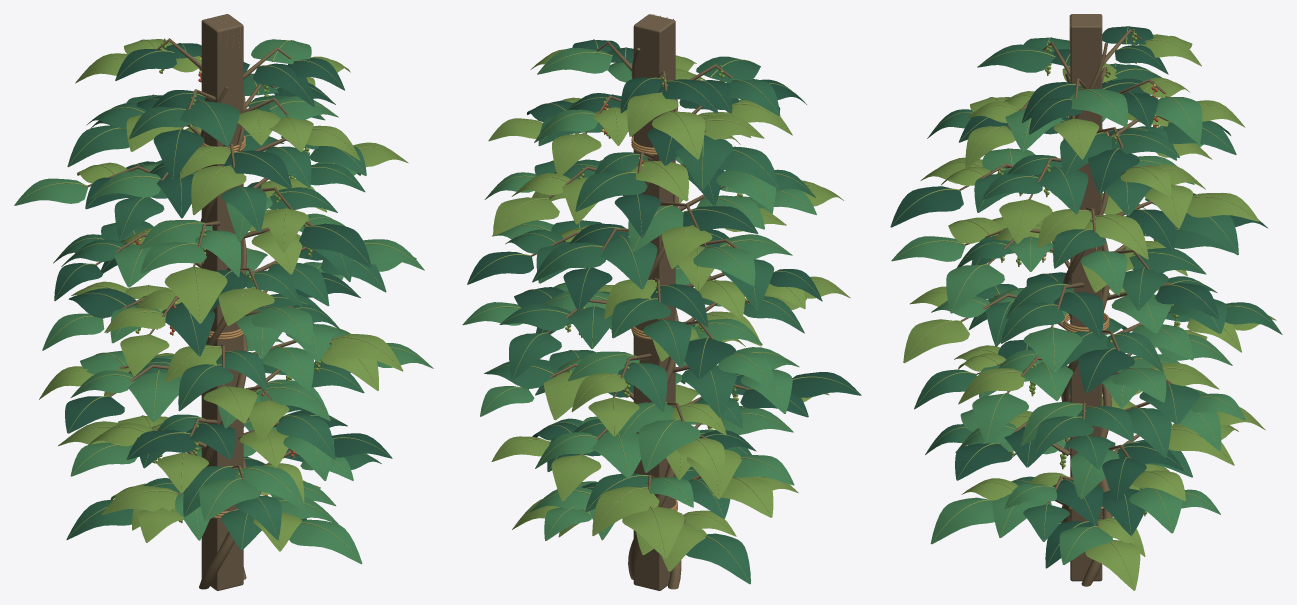
The picture shows the model from 3 angles, left to right: view 1: azimuth 30°, elevation 25°; view 2: azimuth 150°, elevation 25°; view 3: azimuth 270°, elevation 25°; orthographic projection.
Parts seen in each view (by area): view 1: Pepper foliage, Belian support, Climbers, Pepper spikes; view 2: Pepper foliage, Belian support, Climbers, Pepper spikes; view 3: Pepper foliage, Belian support, Climbers, Pepper spikes.
Part boxes in pixels (bbox=[...]): Pepper foliage: bbox=[14, 39, 433, 564]; Belian support: bbox=[200, 14, 245, 590]; Climbers: bbox=[87, 38, 332, 589]; Pepper spikes: bbox=[135, 38, 321, 523]; Pepper foliage: bbox=[462, 39, 861, 584]; Belian support: bbox=[631, 14, 677, 590]; Climbers: bbox=[528, 41, 749, 589]; Pepper spikes: bbox=[565, 65, 749, 483]; Pepper foliage: bbox=[890, 26, 1282, 590]; Belian support: bbox=[1063, 14, 1109, 581]; Climbers: bbox=[960, 29, 1172, 586]; Pepper spikes: bbox=[997, 29, 1180, 521].
Bounding box in the file's own units: 1.26 × 1.88 × 1.2.
